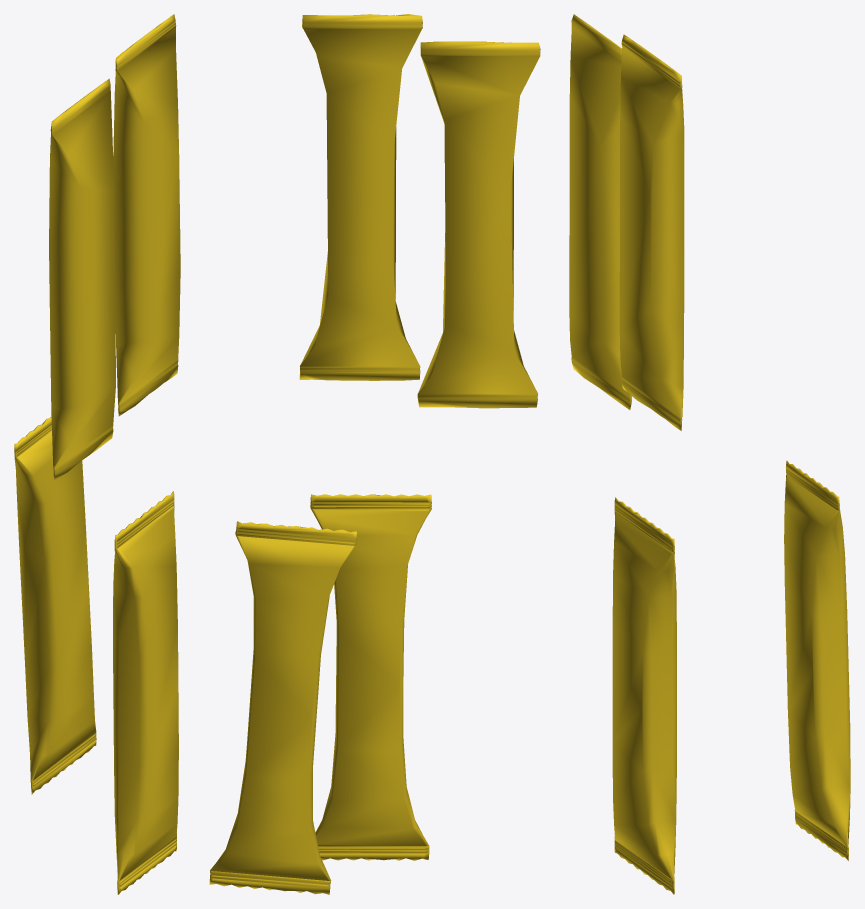
The model's file is CandyBars.fbx.
3 views of the same model, side by side, from view 1: azimuth 30°, elevation 25°; view 2: azimuth 150°, elevation 25°; view 3: azimuth 270°, elevation 25° (orthographic). The views are drawn at different scales.
Parts seen in each view (by area): view 1: Candy bar.002, Candy bar.001, Candy bar, Candy bar.003; view 2: Candy bar.002, Candy bar.001, Candy bar.003, Candy bar; view 3: Candy bar.001, Candy bar, Candy bar.003, Candy bar.002.
Boxes of the visible parts, x1=… form: Candy bar.002: x1=49, y1=78, x2=115, y2=480; Candy bar.001: x1=113, y1=14, x2=180, y2=416; Candy bar: x1=113, y1=491, x2=178, y2=894; Candy bar.003: x1=14, y1=416, x2=96, y2=794; Candy bar.002: x1=417, y1=41, x2=540, y2=408; Candy bar.001: x1=299, y1=14, x2=422, y2=380; Candy bar.003: x1=209, y1=521, x2=356, y2=894; Candy bar: x1=310, y1=494, x2=431, y2=860; Candy bar.001: x1=619, y1=34, x2=684, y2=430; Candy bar: x1=612, y1=497, x2=676, y2=894; Candy bar.003: x1=784, y1=460, x2=850, y2=860; Candy bar.002: x1=569, y1=14, x2=631, y2=409.
Size of the model in its own units: 17.89 by 76.94 by 23.87.
